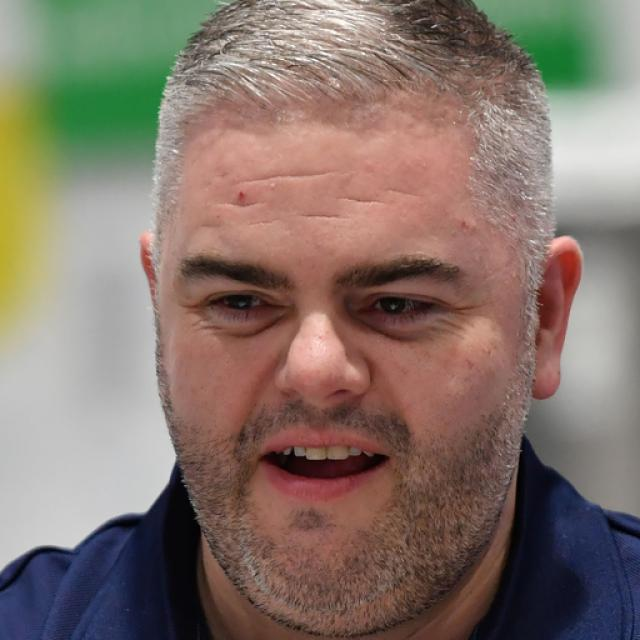Acne: (222, 185, 255, 210), (450, 211, 472, 234), (466, 217, 484, 243), (260, 178, 284, 194)
